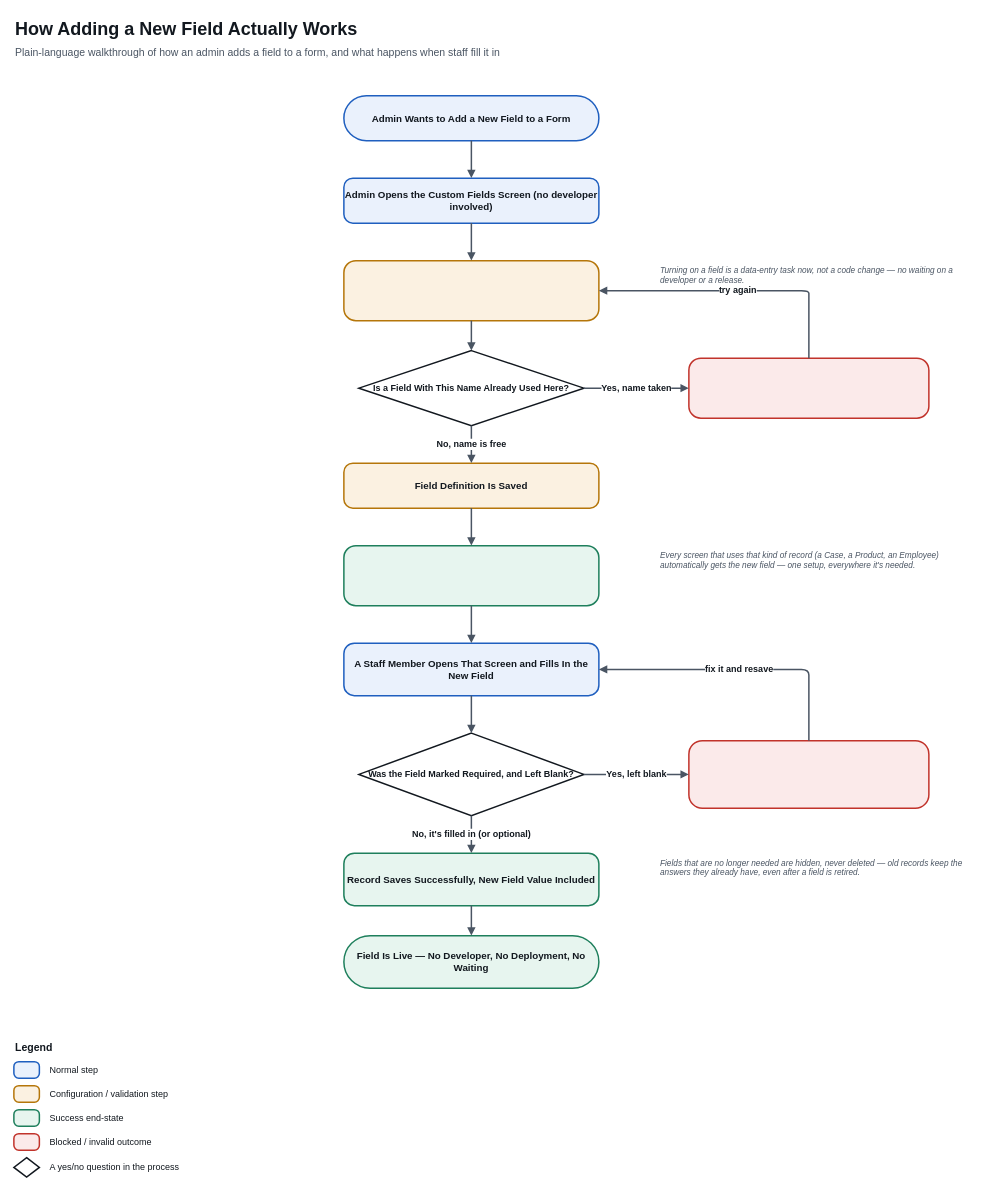
The diagram is 986 pixels wide and 1190 high, and some of its shapes have lost their labels. The shapes that lost their labels are listed below. From the top down, each one's box as (x1, y1, x2, y2) in pixels, then its label:
(343, 260, 599, 321): Admin Names the Field, Picks Its Type, and Decides if It's Required
(688, 357, 929, 418): Blocked — Admin Picks a Different Name
(343, 544, 599, 606): Field Immediately Shows Up on That Screen for Every Staff Member
(688, 740, 929, 808): Blocked — Staff Member Must Fill It In Before Saving
